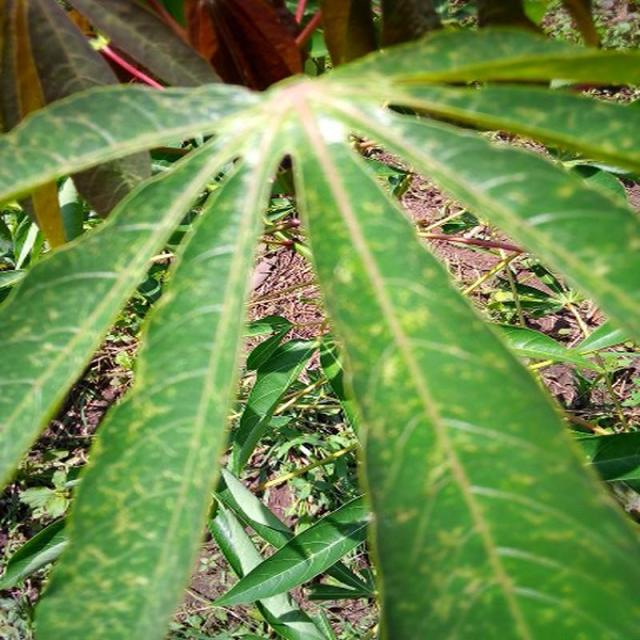cassava leaf: (2, 21, 639, 638), (291, 121, 640, 638)
